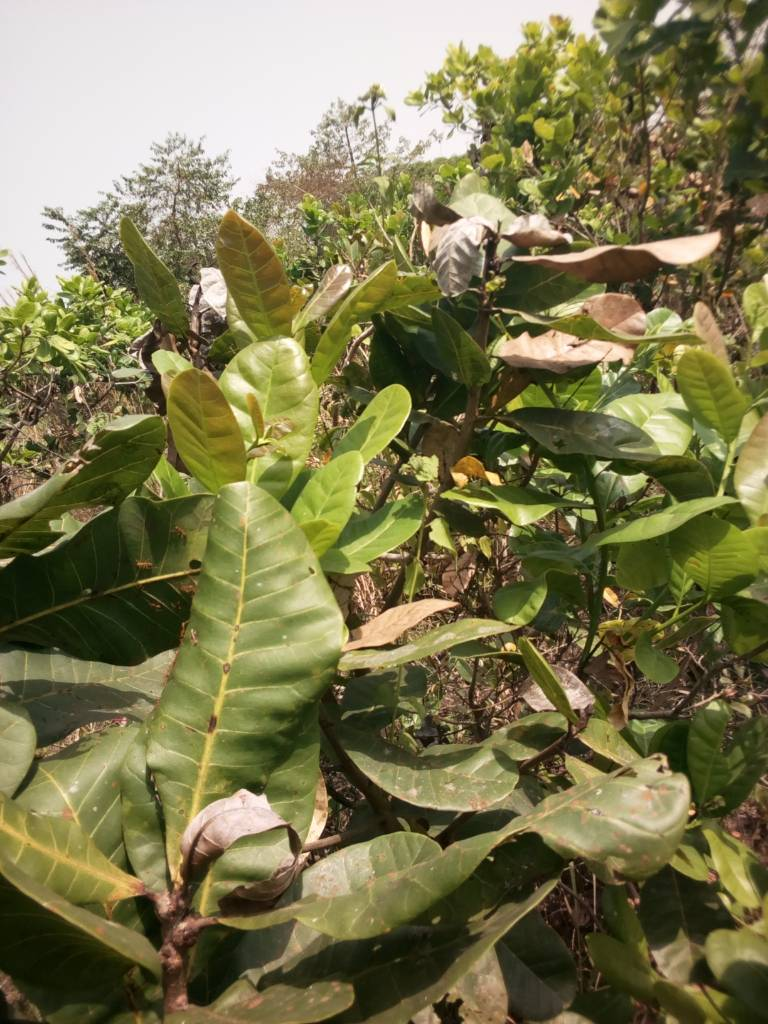Dessèchement des bourgeons: (147, 820, 308, 956)
